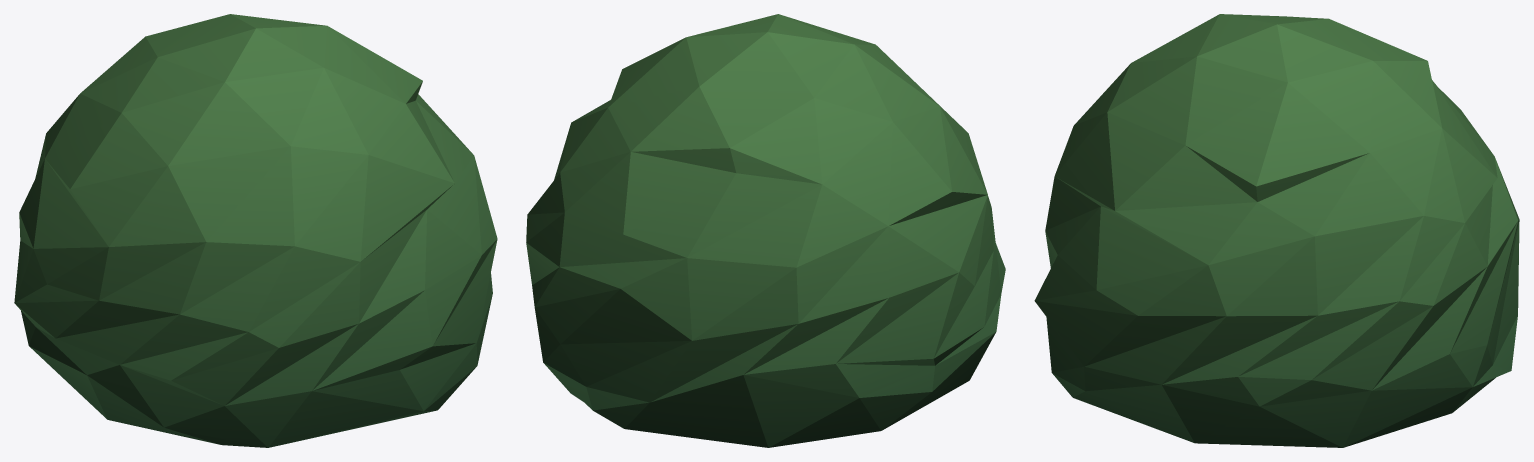
Rendered from lp_bush_02.glb.
3 views of the same model, side by side, from view 1: azimuth 30°, elevation 25°; view 2: azimuth 150°, elevation 25°; view 3: azimuth 270°, elevation 25° (orthographic). The views are drawn at different scales.
Parts seen in each view (by area): view 1: bush_02; view 2: bush_02; view 3: bush_02.
Part boxes in pixels (bbox=[...]): bush_02: bbox=[14, 14, 497, 447]; bush_02: bbox=[526, 14, 1005, 447]; bush_02: bbox=[1034, 14, 1519, 447].
Bounding box in the file's own units: 1.47 × 1.1 × 1.45.
